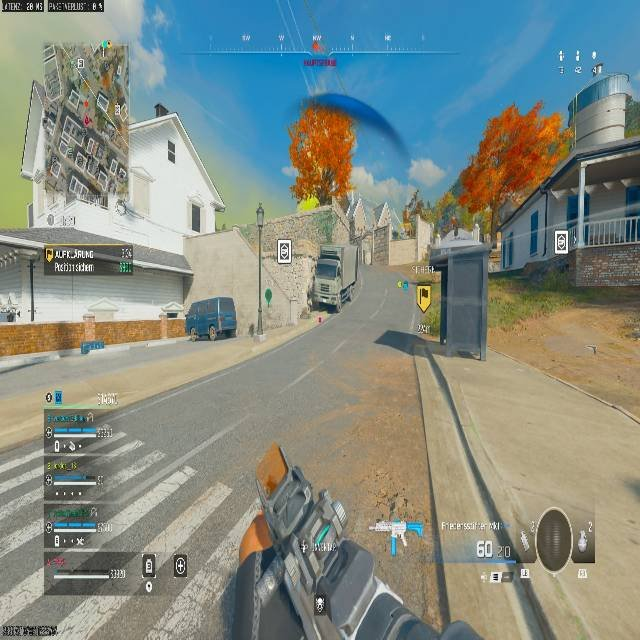player: (207, 324, 217, 341)
